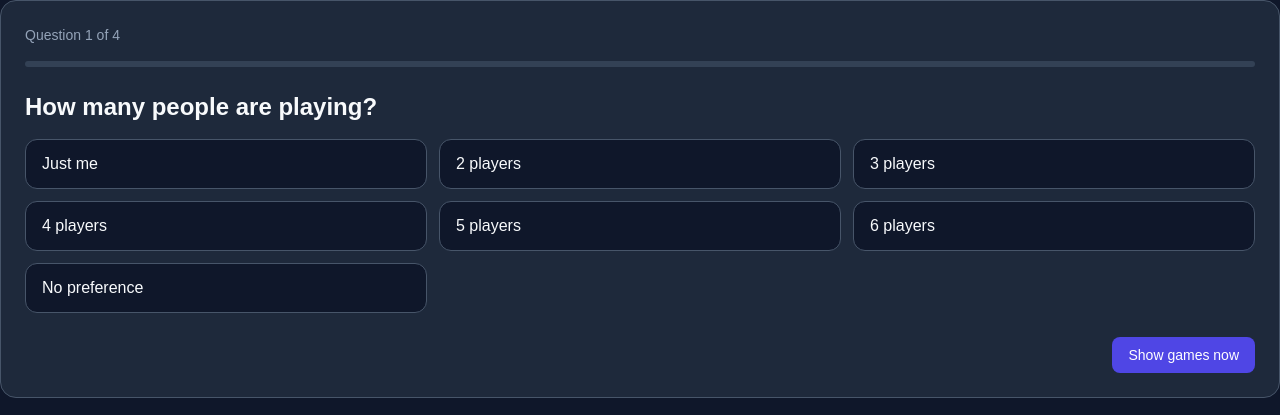
Test: DecisionChart › walks through the questions and reports the answers
This screenshot has width=1280, height=415.
Check: the heading "How many people are playing?" is shown, box [25,93,377,120]
Click the button "4 players" at [74, 226], box [25,201,427,251]
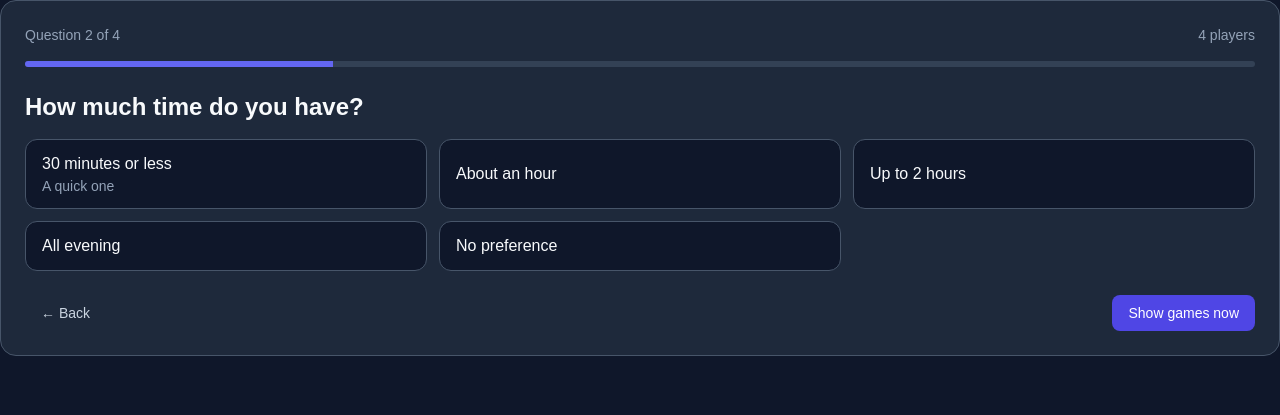
Check: the heading "How much time do you have?" is shown, box [25,93,364,120]
Click the button "About an hour" at [506, 174], box [439,139,841,209]
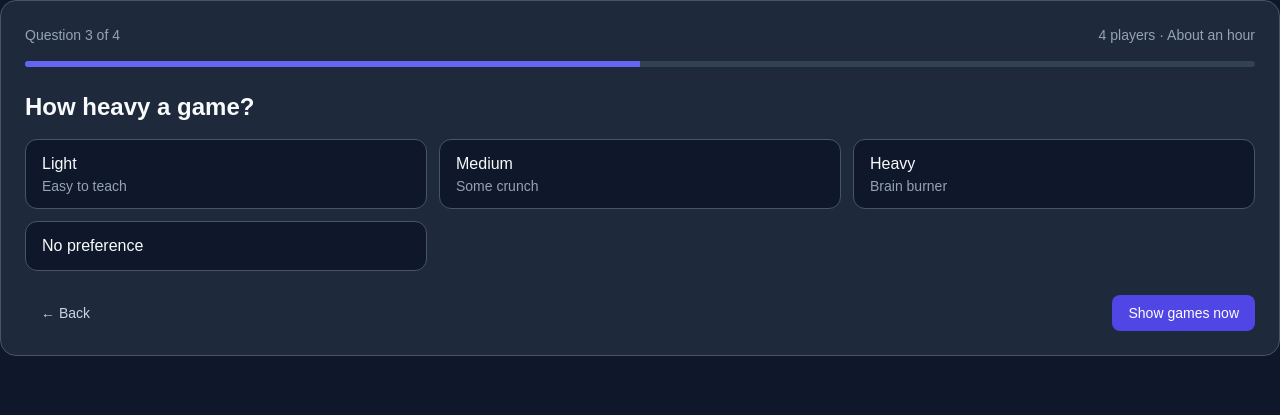
Click the button "Medium Some crunch" at [484, 164], box [439,139,841,209]
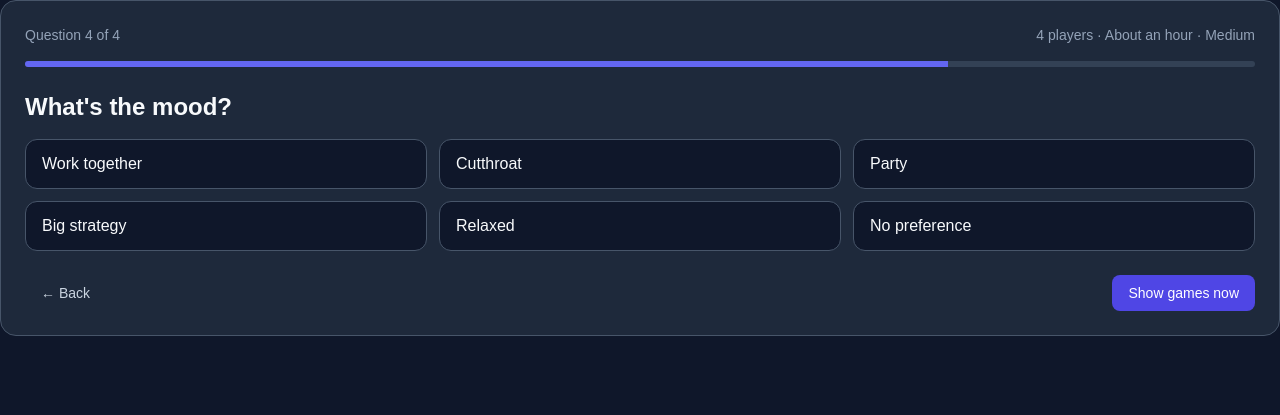
Click the button "Work together" at [92, 164], box [25,139,427,189]
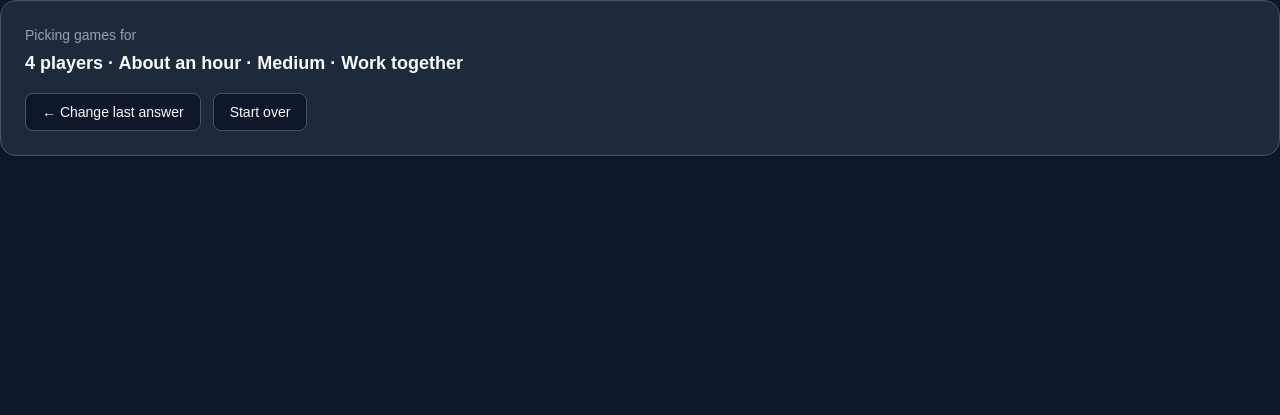
Check: the text "4 players · About an hour · Medium · Work together" is shown, box [25,53,463,73]
